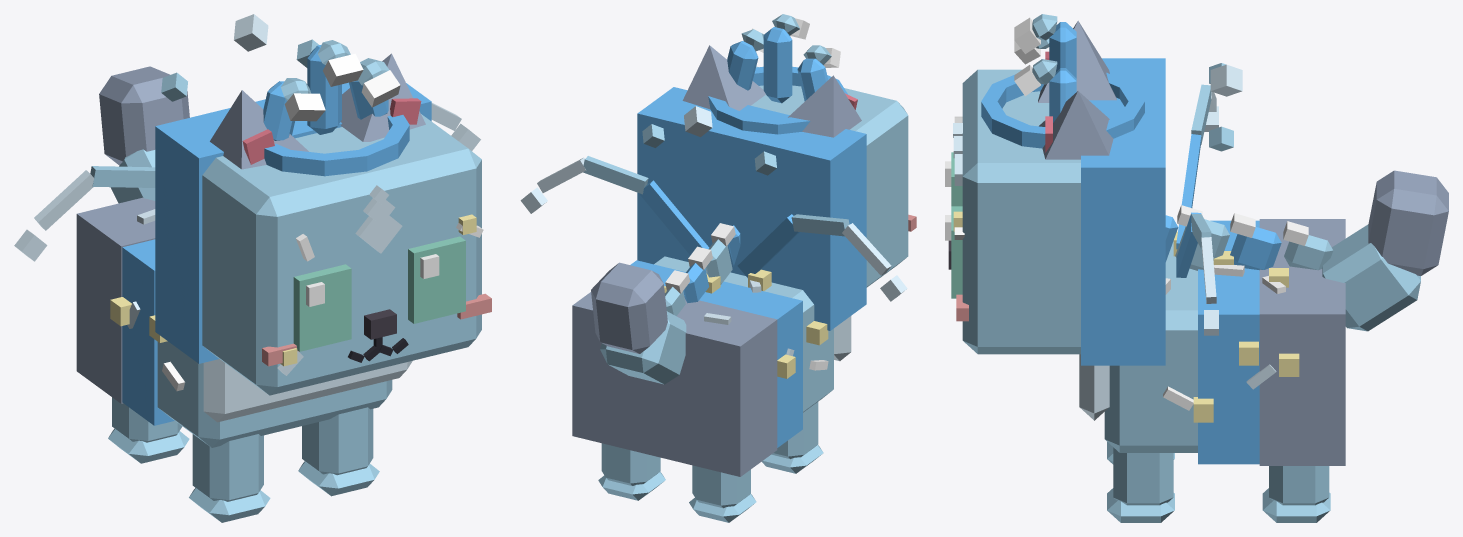
The model's file is CatCafe_Cat_Water.glb.
The picture shows the model from 3 angles, left to right: view 1: azimuth 30°, elevation 25°; view 2: azimuth 150°, elevation 25°; view 3: azimuth 270°, elevation 25°; orthographic projection. The views are drawn at different scales.
Visible parts, largest first — view 1: CatCafe_Cat_Water_Head, CatCafe_Cat_Water_Body, CatCafe_Cat_Water_Prop, CatCafe_Cat_Water_Tail, CatCafe_Cat_Water_LegF2, CatCafe_Cat_Water_LegF1, CatCafe_Cat_Water_Eye2, CatCafe_Cat_Water_Eye1, CatCafe_Cat_Water_EarR, CatCafe_Cat_Water_Prop2, CatCafe_Cat_Water_LegB2, CatCafe_Cat_Water_Bubbles_Glow (+2 smaller); view 2: CatCafe_Cat_Water_Head, CatCafe_Cat_Water_Body, CatCafe_Cat_Water_Prop2, CatCafe_Cat_Water_Tail, CatCafe_Cat_Water_Prop, CatCafe_Cat_Water_LegB2, CatCafe_Cat_Water_LegB1, CatCafe_Cat_Water_EarL, CatCafe_Cat_Water_EarR, CatCafe_Cat_Water_Bubbles_Glow, CatCafe_Cat_Water_LegF2, CatCafe_Cat_Water_Foam_Glow (+1 smaller); view 3: CatCafe_Cat_Water_Head, CatCafe_Cat_Water_Body, CatCafe_Cat_Water_Tail, CatCafe_Cat_Water_Prop2, CatCafe_Cat_Water_Prop, CatCafe_Cat_Water_LegF1, CatCafe_Cat_Water_LegB1, CatCafe_Cat_Water_EarL, CatCafe_Cat_Water_EarR, CatCafe_Cat_Water_Bubbles_Glow, CatCafe_Cat_Water_Crest_Glow, CatCafe_Cat_Water_Foam_Glow (+1 smaller).
Boxes of the visible parts, box(x1,y1,x2,y2) form: CatCafe_Cat_Water_Head: box(155, 82, 491, 395); CatCafe_Cat_Water_Body: box(76, 197, 412, 447); CatCafe_Cat_Water_Prop: box(258, 40, 409, 176); CatCafe_Cat_Water_Tail: box(99, 66, 189, 203); CatCafe_Cat_Water_LegF2: box(189, 434, 270, 522); CatCafe_Cat_Water_LegF1: box(298, 407, 379, 496); CatCafe_Cat_Water_Eye2: box(293, 264, 351, 351); CatCafe_Cat_Water_Eye1: box(408, 236, 465, 323); CatCafe_Cat_Water_EarR: box(210, 90, 308, 169); CatCafe_Cat_Water_Prop2: box(34, 103, 461, 230); CatCafe_Cat_Water_LegB2: box(108, 397, 189, 463); CatCafe_Cat_Water_Bubbles_Glow: box(14, 14, 480, 261); CatCafe_Cat_Water_Head: box(637, 66, 916, 330); CatCafe_Cat_Water_Body: box(572, 256, 851, 476); CatCafe_Cat_Water_Prop2: box(537, 156, 891, 315); CatCafe_Cat_Water_Tail: box(591, 262, 686, 384); CatCafe_Cat_Water_Prop: box(708, 14, 848, 134); CatCafe_Cat_Water_LegB2: box(689, 465, 756, 522); CatCafe_Cat_Water_LegB1: box(598, 443, 665, 500); CatCafe_Cat_Water_EarL: box(682, 45, 765, 110); CatCafe_Cat_Water_EarR: box(788, 75, 861, 137); CatCafe_Cat_Water_Bubbles_Glow: box(520, 106, 907, 301); CatCafe_Cat_Water_LegF2: box(761, 402, 823, 473); CatCafe_Cat_Water_Foam_Glow: box(665, 223, 735, 293); CatCafe_Cat_Water_Head: box(948, 58, 1165, 365); CatCafe_Cat_Water_Body: box(1079, 219, 1345, 465); CatCafe_Cat_Water_Tail: box(1322, 170, 1448, 331); CatCafe_Cat_Water_Prop2: box(1165, 84, 1333, 303); CatCafe_Cat_Water_Prop: box(981, 14, 1144, 148); CatCafe_Cat_Water_LegF1: box(1107, 447, 1174, 522); CatCafe_Cat_Water_LegB1: box(1262, 466, 1330, 522); CatCafe_Cat_Water_EarL: box(1039, 91, 1113, 159); CatCafe_Cat_Water_EarR: box(1038, 20, 1116, 102); CatCafe_Cat_Water_Bubbles_Glow: box(1204, 63, 1242, 335); CatCafe_Cat_Water_Crest_Glow: box(1014, 17, 1040, 96); CatCafe_Cat_Water_Foam_Glow: box(1177, 205, 1308, 245).
Size of the model in its own units: 2.54 by 2.59 by 2.51.
Materials: 1 (1 with a texture image).
